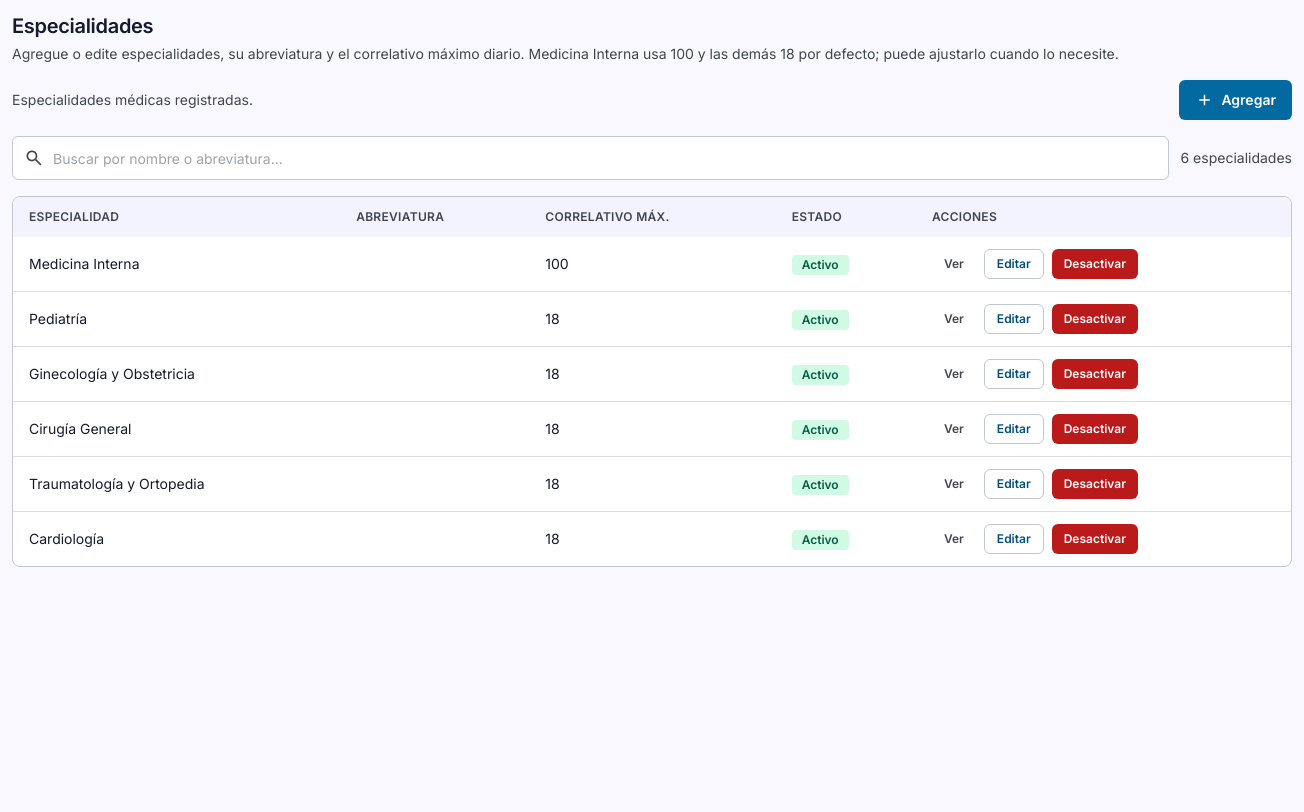
Test: EspecialidadesPage › limpia la búsqueda y vuelve a mostrar todas las especialidades
Type "cardio" into the search field named "Buscar especialidad" at (590, 158), box 12,136 -> 1168,180
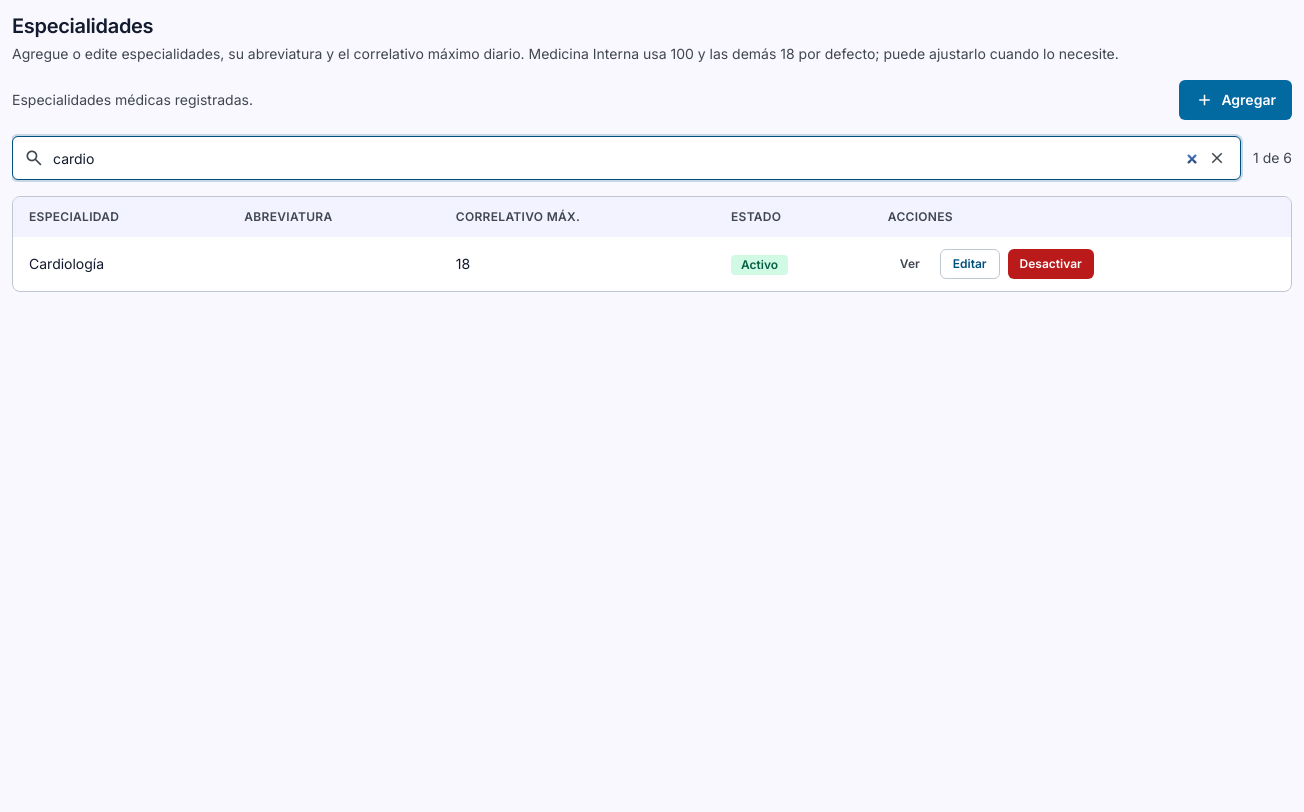
Expected: the text "Medicina Interna" is not shown
Expected: the text "Cardiología" is shown, 13,237 -> 228,291
Click the button named "Limpiar búsqueda" at (1217, 158), box 1201,142 -> 1233,174
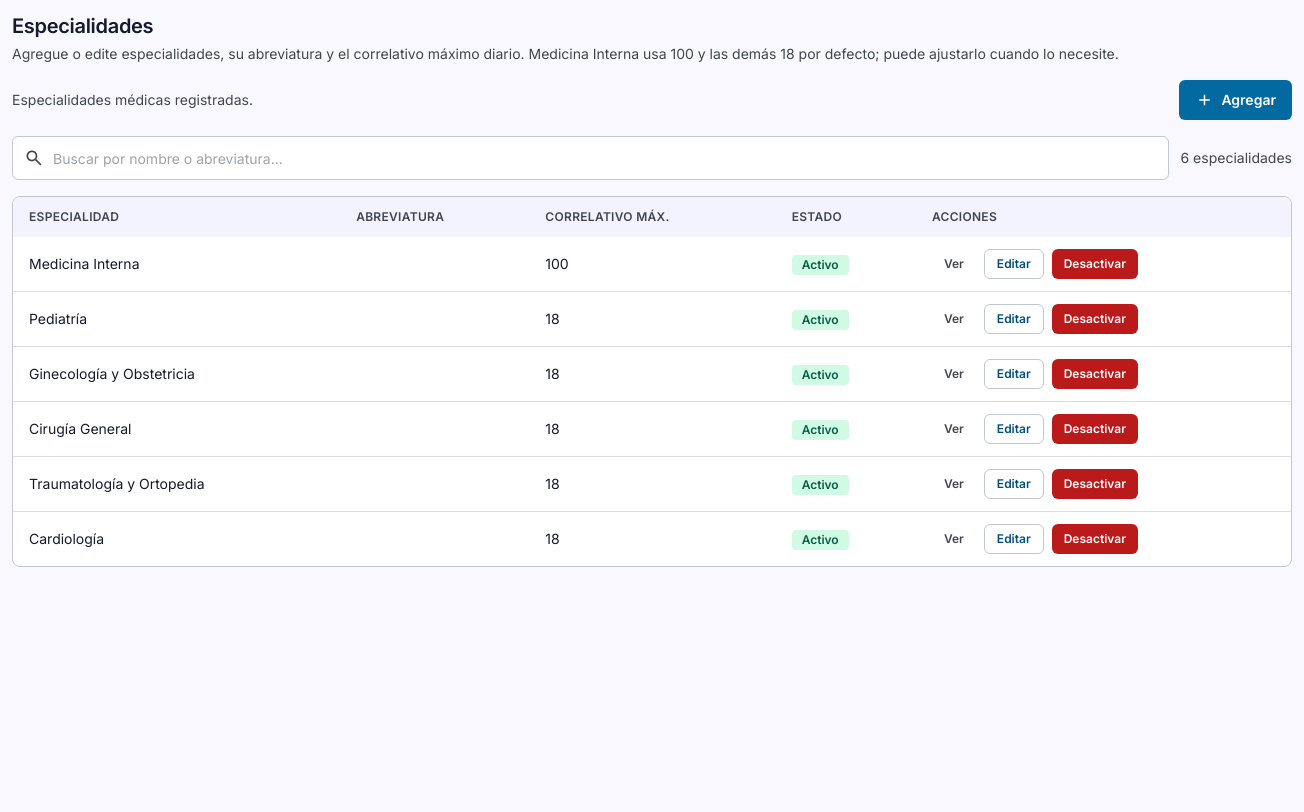
Now the text "Medicina Interna" is shown, box 13,237 -> 340,292
Now the text with test id "conteo-especialidades" reads "6 especialidades", box 1180,149 -> 1292,166
